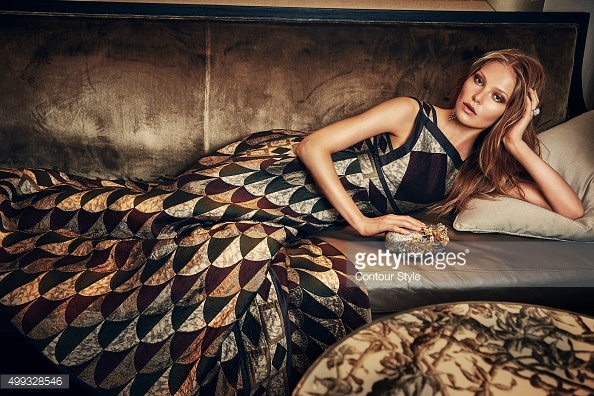deitado: (262, 29, 588, 281)
